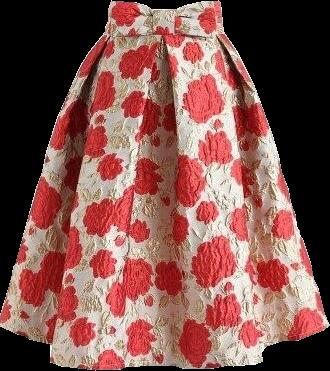Hemline: (0, 322, 329, 370)
Waistline: (108, 1, 221, 15), (103, 30, 226, 38)
